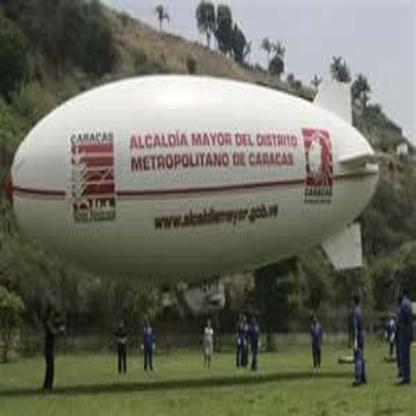Airship: (8, 73, 376, 280)
